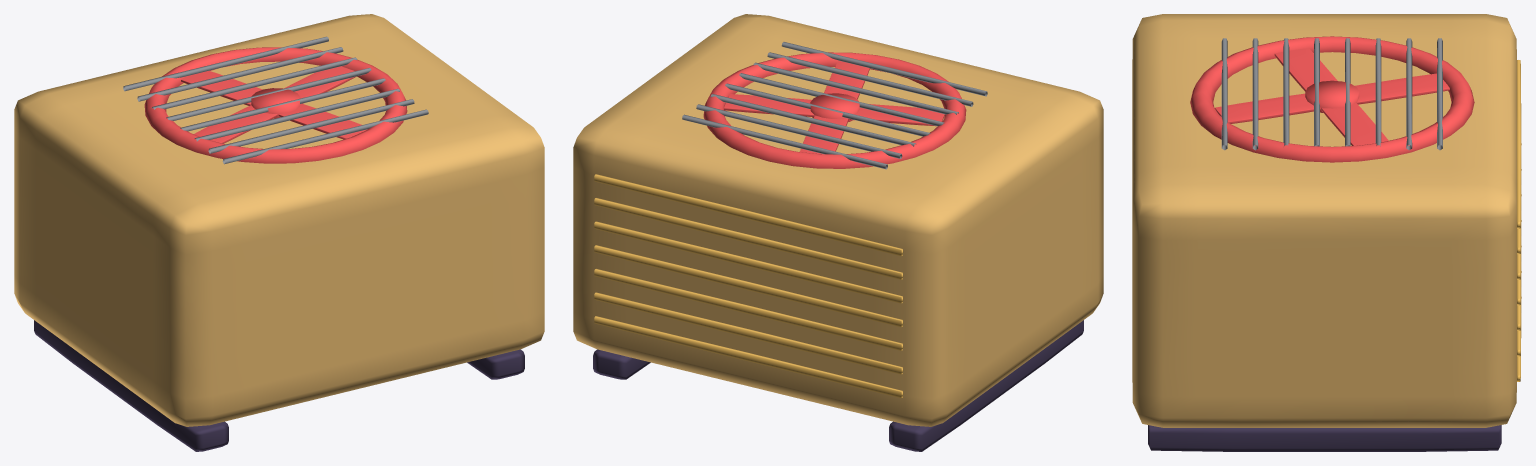
The model's file is EatsaPizzaVent.obj.
3 views of the same model, side by side, from view 1: azimuth 30°, elevation 25°; view 2: azimuth 150°, elevation 25°; view 3: azimuth 270°, elevation 25° (orthographic). The views are drawn at different scales.
Parts seen in each view (by area): view 1: Body, Fan, Grille, Feet; view 2: Body, Slats, Fan, Grille, Feet; view 3: Body, Fan, Feet, Grille, Slats.
Part boxes in pixels (x1,y1,x2,y2): Body: [14, 14, 544, 426]; Fan: [144, 47, 407, 163]; Grille: [123, 36, 428, 164]; Feet: [34, 320, 524, 451]; Body: [573, 14, 1103, 426]; Slats: [594, 174, 903, 397]; Fan: [703, 52, 966, 168]; Grille: [682, 42, 987, 169]; Feet: [593, 320, 1083, 451]; Body: [1132, 14, 1516, 427]; Fan: [1190, 36, 1474, 162]; Feet: [1148, 425, 1501, 451]; Grille: [1221, 38, 1442, 150]; Slats: [1517, 60, 1521, 381].
Bounding box in the file's own units: 6 × 3.95 × 5.06.
